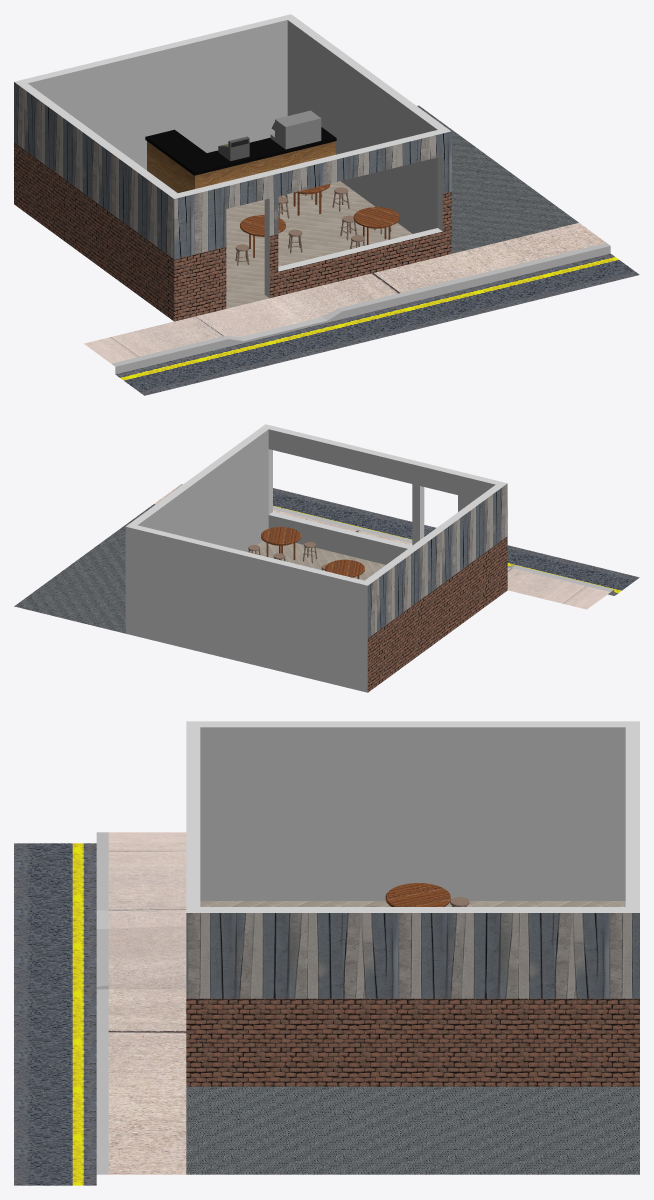
The model's file is CoffeeShop.fbx.
3 views of the same model, one above another, from view 1: azimuth 30°, elevation 25°; view 2: azimuth 150°, elevation 25°; view 3: azimuth 270°, elevation 25° (orthographic). The views are drawn at different scales.
Visible parts, largest first — view 1: Cube.038; view 2: Cube.038; view 3: Cube.038.
Boxes of the visible parts, x1,y1,x2,y2 form: Cube.038: [14, 14, 639, 395]; Cube.038: [14, 424, 639, 692]; Cube.038: [14, 721, 639, 1185].
Size of the model in its own units: 11428 by 2869 by 8829.
